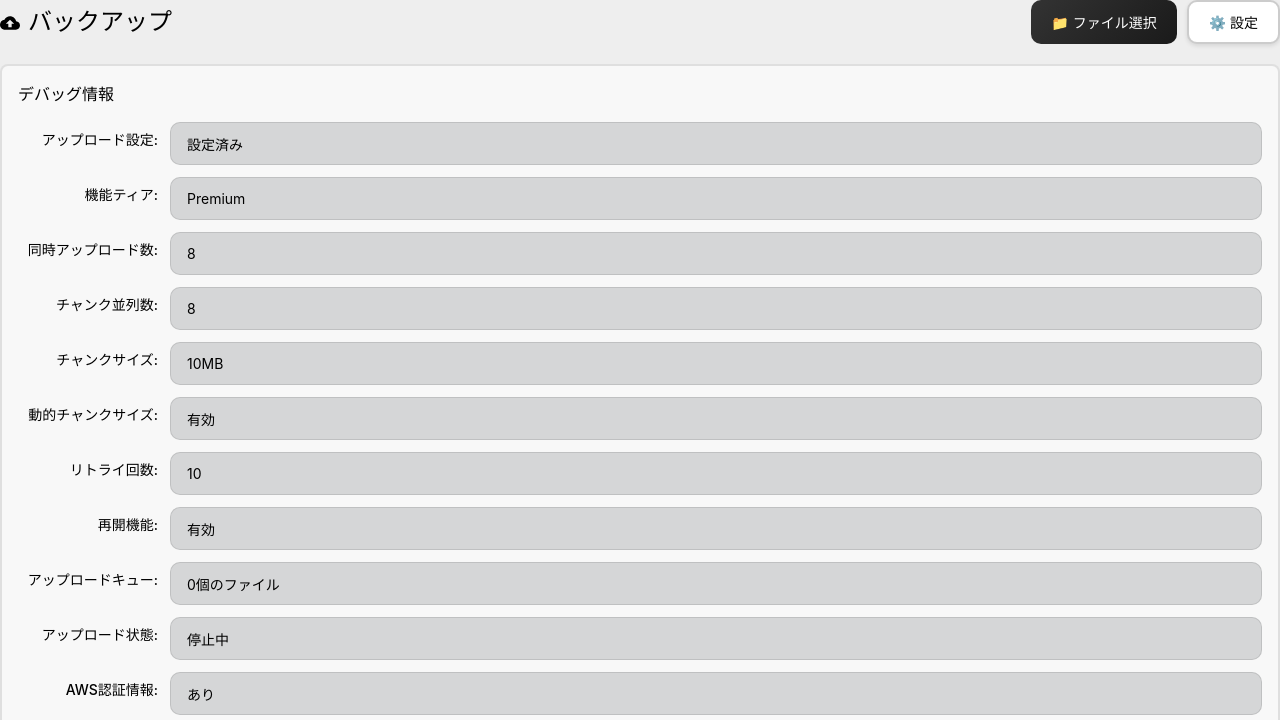
UploadManager › should start upload when files are selected and upload button is clicked
Step 1. Click the button "📁 ファイル選択" → {"x": 1104, "y": 22}, box [1031, 0, 1177, 44]
(page scrolled)
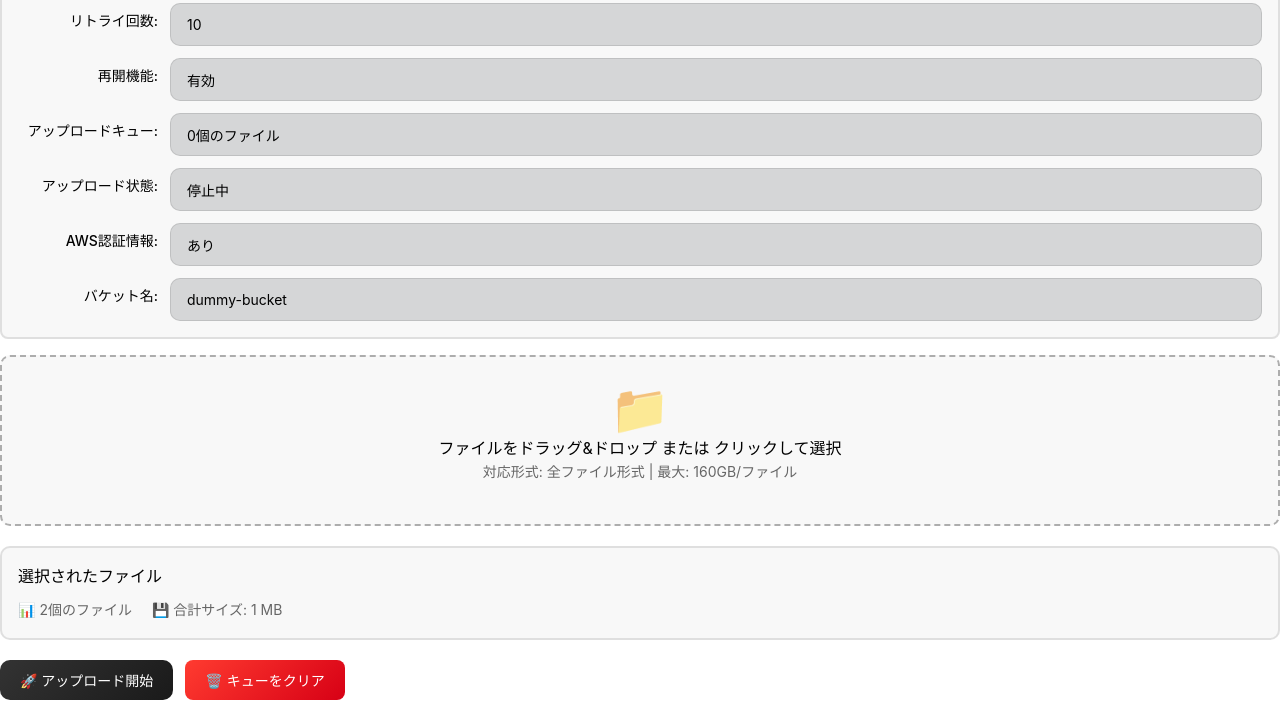
expect the heading "選択されたファイル" is shown: met, box [18, 566, 162, 586]
expect the text "📊 2個のファイル" is shown: met, box [18, 598, 132, 622]
